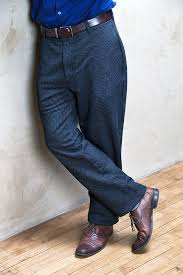F_belt: (30, 7, 127, 43)
F_dress pants: (38, 26, 153, 234)
